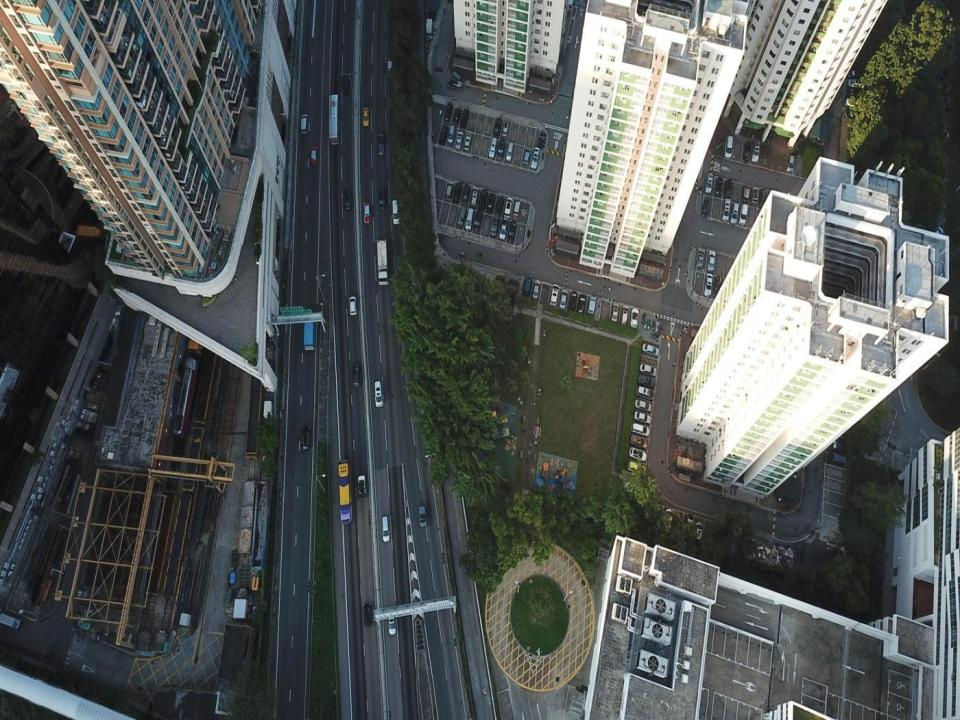bus: (338, 458, 353, 524), (328, 93, 340, 144)
car: (843, 86, 866, 102), (627, 460, 646, 478), (629, 434, 648, 450), (829, 440, 848, 456), (844, 107, 866, 120), (634, 398, 653, 413), (846, 96, 866, 110), (639, 362, 658, 376), (636, 386, 655, 400), (633, 411, 652, 425), (673, 513, 684, 537), (629, 446, 646, 461), (302, 425, 312, 450), (706, 249, 716, 273), (364, 601, 373, 627), (638, 374, 656, 387), (548, 285, 560, 304), (377, 134, 387, 156), (741, 142, 752, 162), (419, 504, 428, 528), (704, 272, 712, 298), (530, 146, 539, 169), (642, 344, 659, 356), (666, 507, 673, 536), (352, 362, 360, 387), (848, 78, 867, 88), (470, 186, 479, 206), (630, 307, 639, 327), (751, 142, 760, 162), (310, 144, 318, 166), (363, 201, 371, 223), (508, 219, 516, 241), (697, 246, 705, 268), (559, 290, 567, 312), (532, 278, 540, 300), (578, 292, 586, 314), (438, 124, 447, 143), (505, 195, 512, 219), (499, 221, 507, 242), (388, 616, 396, 636), (486, 194, 496, 210), (705, 171, 713, 191), (612, 300, 620, 320), (621, 304, 628, 326), (349, 297, 357, 316), (362, 107, 370, 126), (493, 117, 501, 136), (714, 275, 722, 294), (498, 140, 505, 161), (695, 520, 702, 541), (750, 184, 758, 202), (732, 203, 739, 223), (686, 514, 693, 534), (379, 189, 386, 208), (358, 475, 365, 494), (345, 188, 351, 209), (522, 146, 528, 167), (497, 195, 504, 213), (726, 178, 732, 198), (704, 199, 710, 218), (716, 177, 722, 196), (760, 188, 766, 207), (463, 184, 469, 202), (453, 107, 460, 121), (503, 121, 508, 135), (388, 59, 392, 73)
truck: (377, 239, 388, 287)
van: (304, 309, 316, 350), (0, 612, 21, 629), (824, 450, 848, 464), (477, 188, 489, 209), (631, 422, 649, 436), (724, 134, 734, 159), (452, 130, 464, 149), (392, 198, 400, 226), (382, 515, 390, 543), (374, 379, 382, 407), (446, 80, 463, 93), (722, 196, 731, 219), (739, 203, 748, 226), (466, 207, 474, 232), (568, 290, 578, 310), (444, 102, 454, 121), (488, 137, 497, 158), (490, 213, 498, 236), (300, 114, 309, 134), (459, 109, 469, 127), (452, 182, 461, 200), (458, 206, 466, 226), (524, 274, 532, 294), (787, 154, 795, 174), (474, 210, 481, 231), (445, 180, 453, 198), (506, 142, 514, 160), (588, 296, 596, 314), (343, 75, 350, 95), (513, 197, 520, 216), (465, 129, 472, 148), (742, 184, 749, 202), (448, 124, 453, 144)
